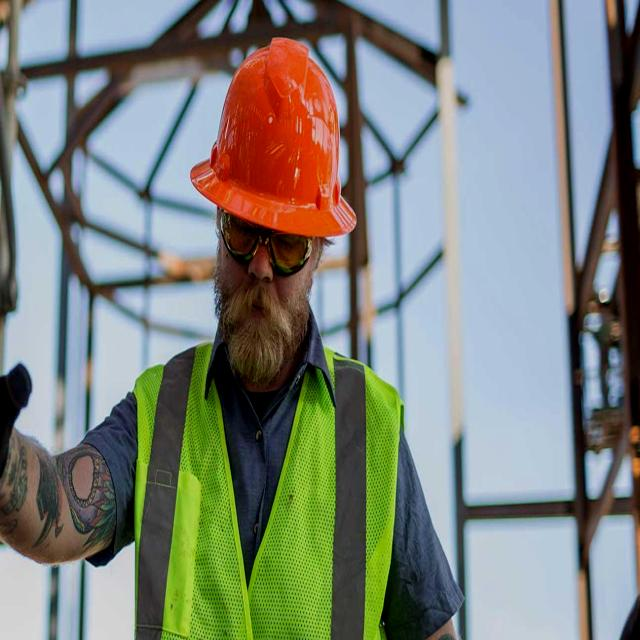face_nomask: (200, 225, 317, 349)
glasses: (214, 205, 313, 279)
head_helmet: (189, 36, 358, 238)
person: (81, 31, 452, 636)
vest: (128, 335, 397, 635)
